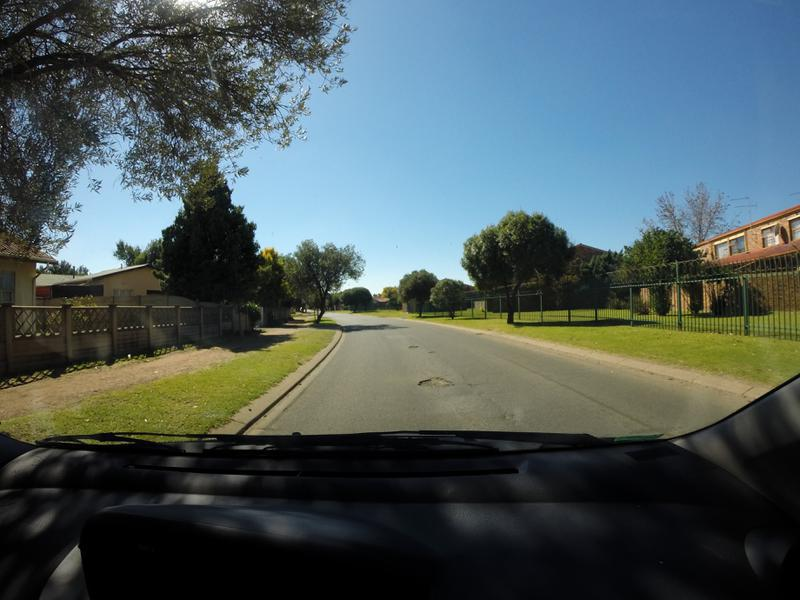pothole: (412, 371, 461, 396), (406, 339, 421, 350)
